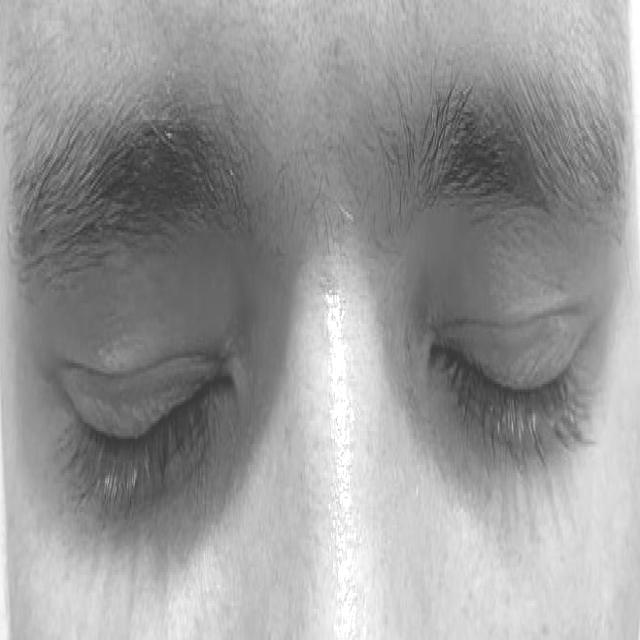real: (26, 92, 614, 590)
